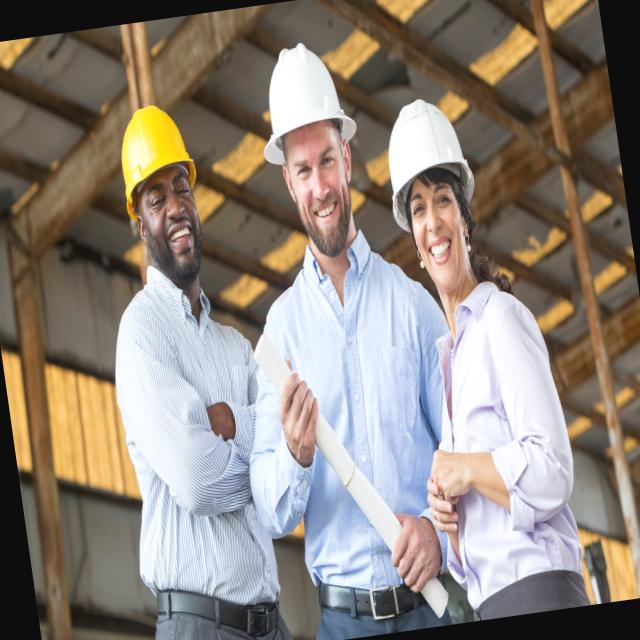helmet: (249, 34, 362, 174), (372, 92, 481, 229), (103, 86, 212, 204)
no-goggles: (280, 140, 354, 186), (402, 180, 468, 226), (135, 169, 197, 217)
no-vest: (241, 247, 454, 594), (400, 269, 596, 616), (101, 260, 286, 622)
